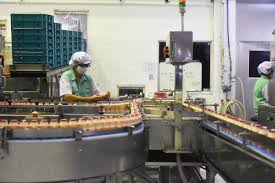noepi: (59, 50, 113, 101), (252, 59, 275, 126)
